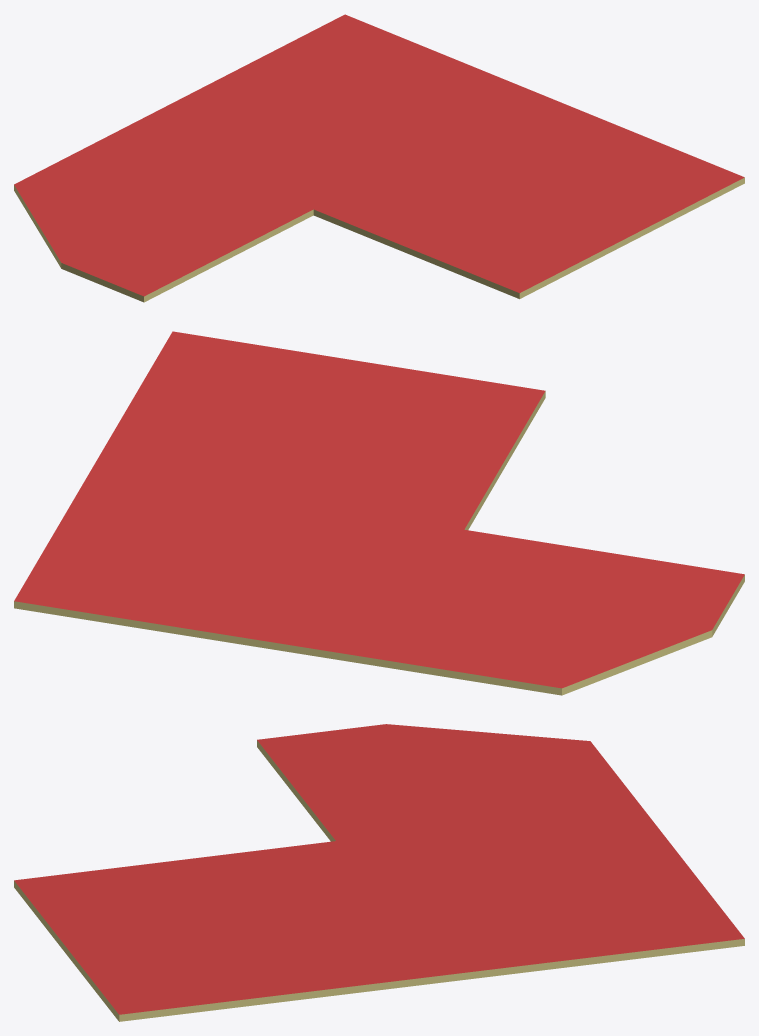
3 renders of one model, top to bottom at view 1: azimuth 30°, elevation 25°; view 2: azimuth 150°, elevation 25°; view 3: azimuth 270°, elevation 25°, orthographic. The views are drawn at different scales.
Size of the model in its own units: 9.88 by 9.36 by 0.595.
